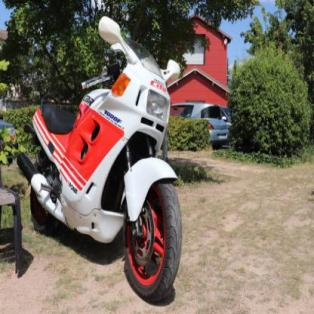Motocicleta: (19, 12, 190, 307)
